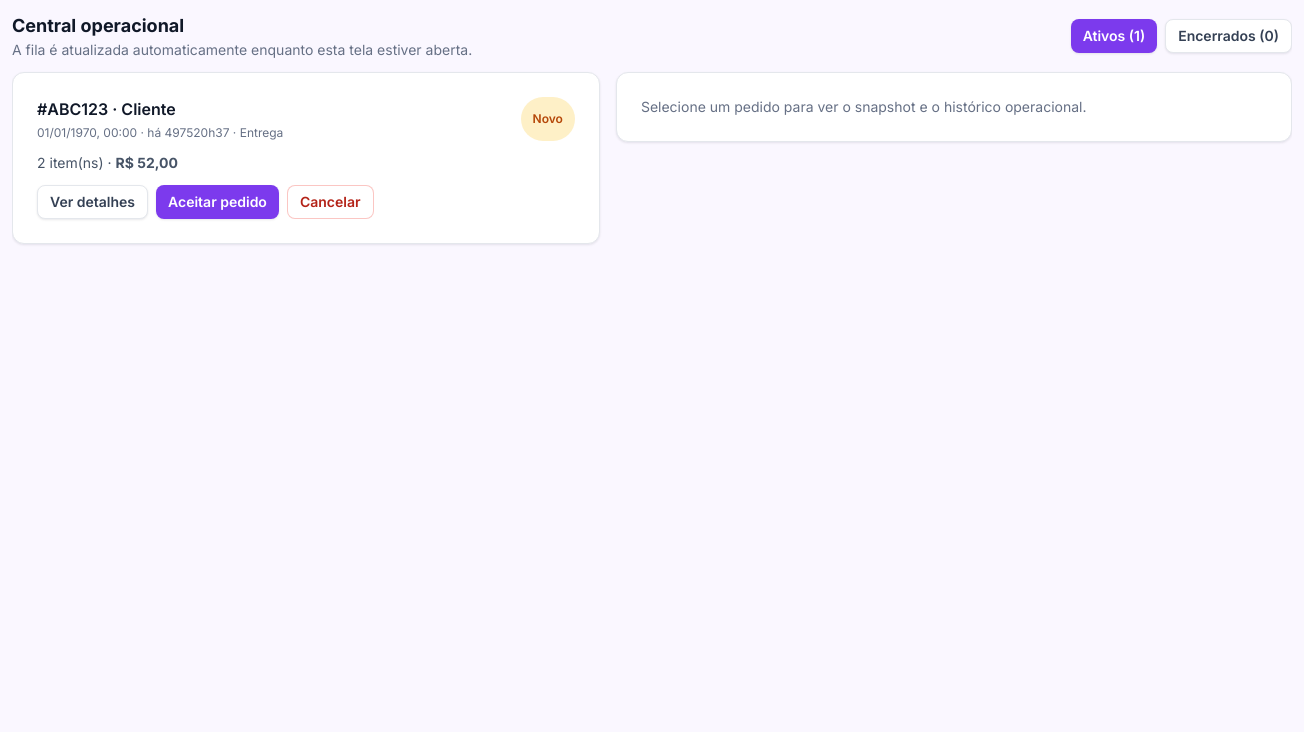
Test case: operação de pedidos no painel › usa o snapshot confirmado nos detalhes, não os dados mutáveis do pedido
What coordinates should you click on to do the following:
click the button "Ver detalhes"
I would click on:
 (92, 202)
Its box is 37,185 -> 148,219.
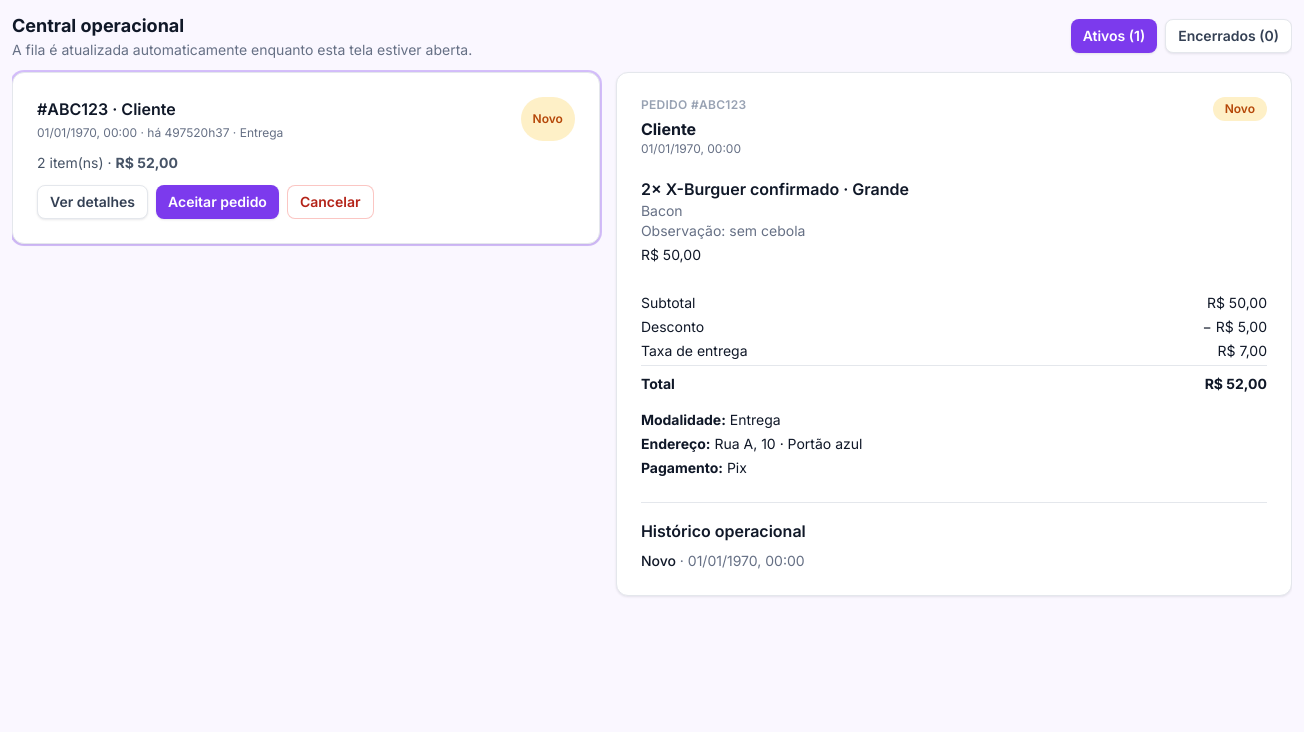
Now the text "2× X-Burguer confirmado · Grande" is shown, box 641,179 -> 909,199
Now the text "Bacon" is shown, box 641,202 -> 683,219
Now the text "Observação: sem cebola" is shown, box 641,222 -> 805,239
